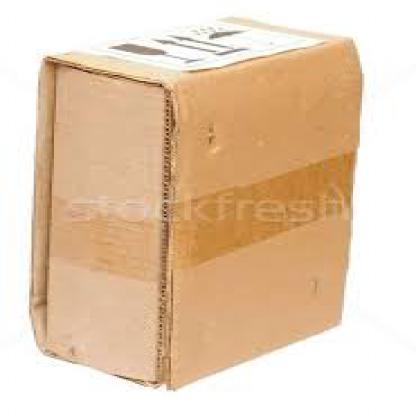CARDBOARD: (27, 15, 360, 387)
